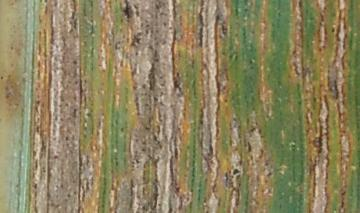tarspot: (229, 165, 242, 177)
